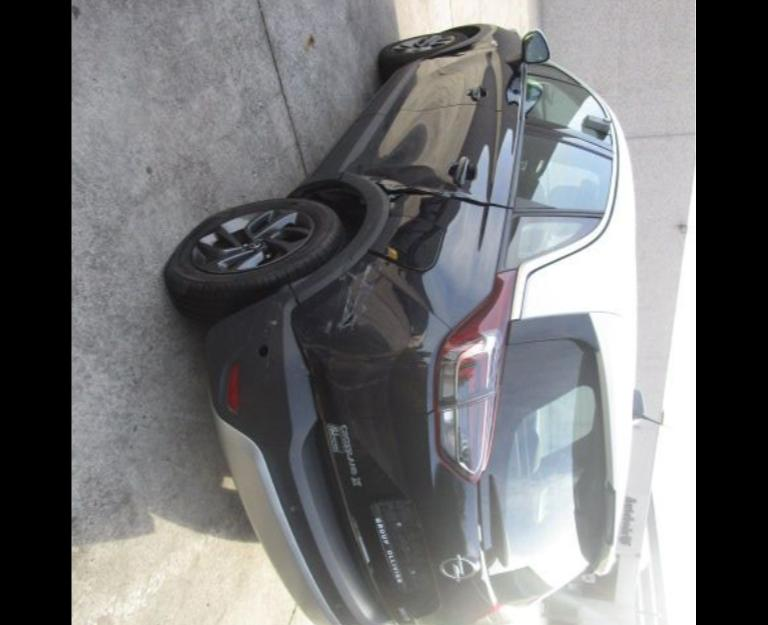Broken part: (372, 182, 508, 208)
Dent: (326, 260, 428, 354), (374, 168, 462, 198), (388, 194, 406, 210)
Missing part: (256, 344, 268, 356)
Scratch: (334, 264, 376, 332), (324, 318, 332, 336)
